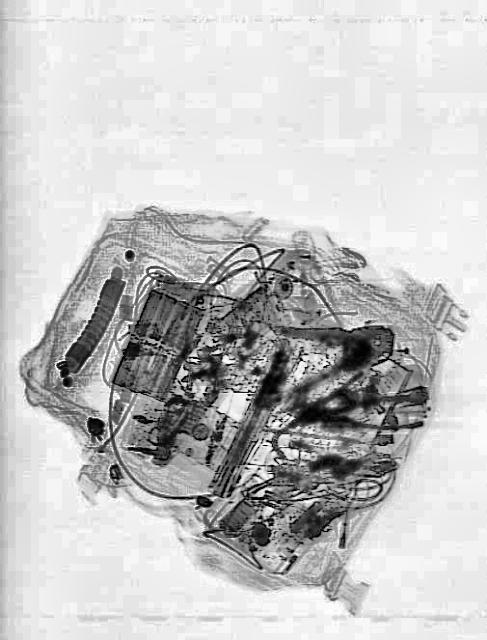Pliers: (270, 306, 398, 398)
